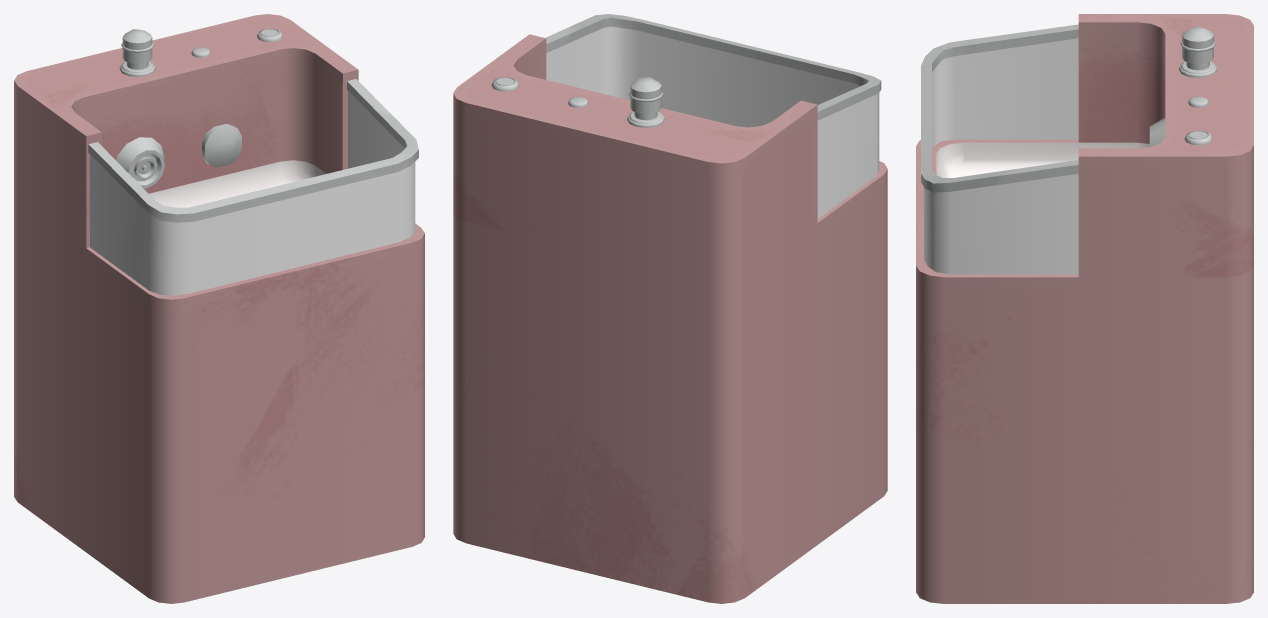
File: bath.fbx
3 views of the same model, side by side, from view 1: azimuth 30°, elevation 25°; view 2: azimuth 150°, elevation 25°; view 3: azimuth 270°, elevation 25° (orthographic). The views are drawn at different scales.
Parts seen in each view (by area): view 1: bath_part_2, bath_part_3, bath_part_4, bath_part_1, bath_part_8, bath_part_9, bath_part_5; view 2: bath_part_2, bath_part_3, bath_part_4, bath_part_5; view 3: bath_part_2, bath_part_3, bath_part_4, bath_part_1, bath_part_5.
Part boxes in pixels (x1,y1,x2,y2): bath_part_2: (14,14,424,603); bath_part_3: (90,91,415,295); bath_part_4: (88,79,418,222); bath_part_1: (149,160,326,207); bath_part_8: (116,137,164,189); bath_part_9: (202,123,241,167); bath_part_5: (119,29,155,76); bath_part_2: (453,34,887,603); bath_part_3: (546,26,879,218); bath_part_4: (545,14,881,120); bath_part_5: (627,77,664,127); bath_part_2: (916,14,1253,603); bath_part_3: (923,38,1078,274); bath_part_4: (921,24,1078,192); bath_part_1: (935,142,1149,177); bath_part_5: (1179,26,1216,77).
Size of the model in its own units: 72.64 by 116 by 72.64.
Materials: 1 (1 with a texture image).
